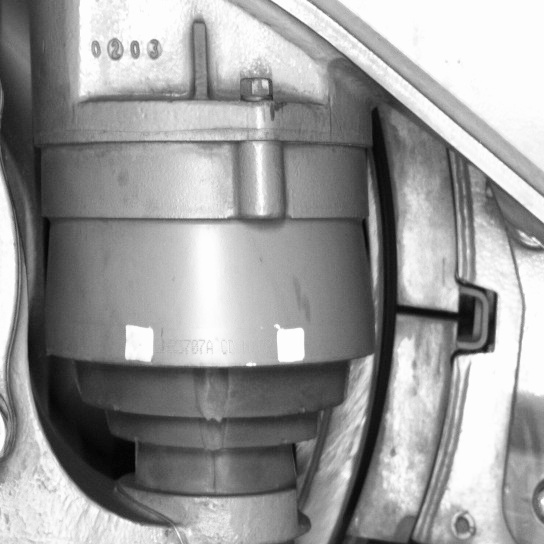KnifeSwitch: (320, 144, 437, 540)
